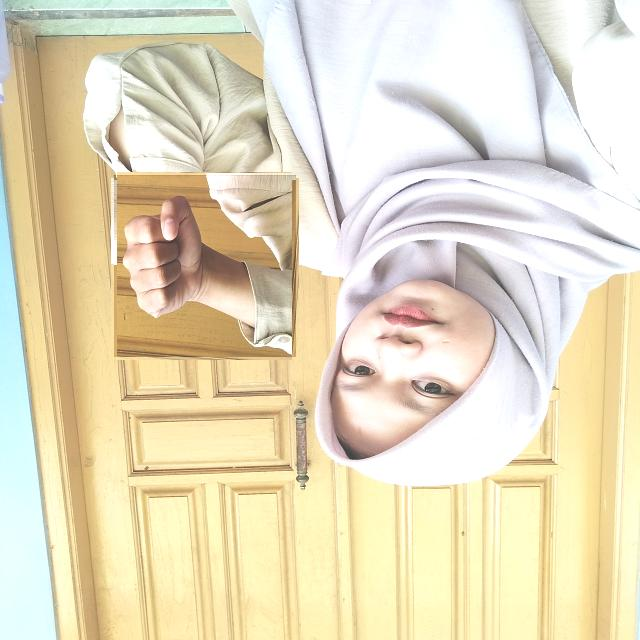baik: (114, 175, 296, 356)
